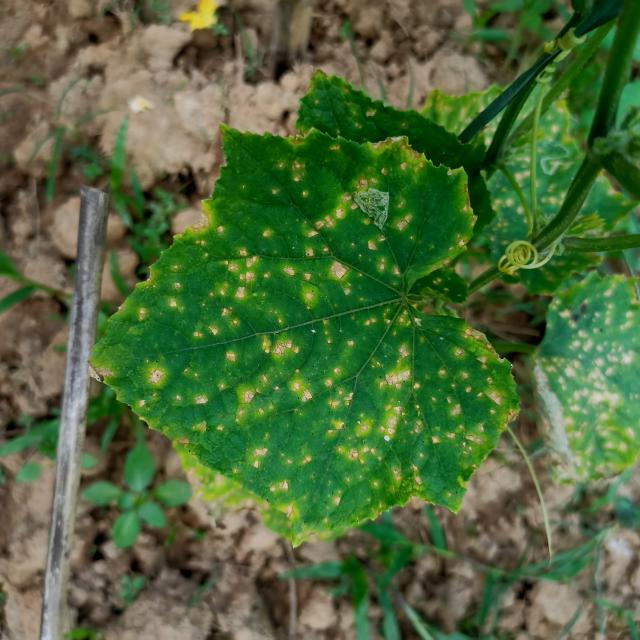disease_cucumber: (102, 141, 494, 527)
